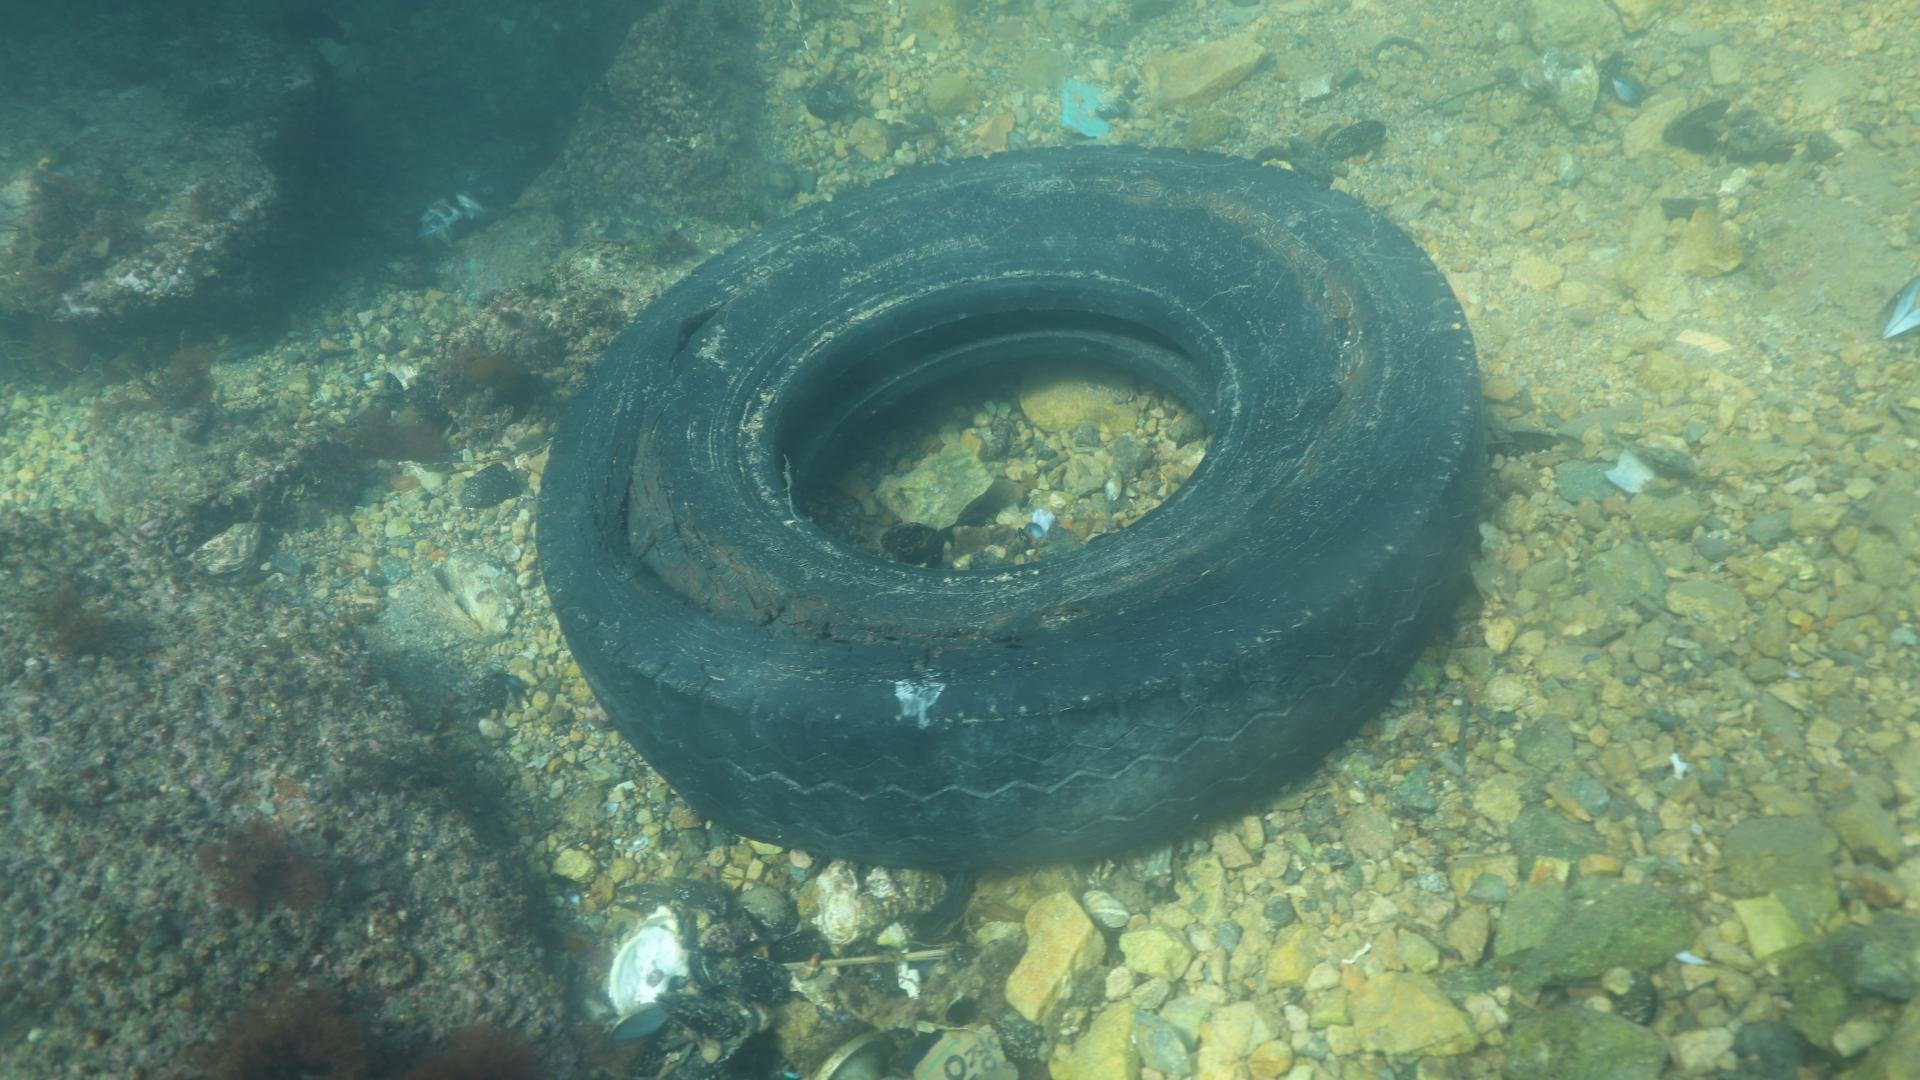tire: (533, 138, 1484, 872)
